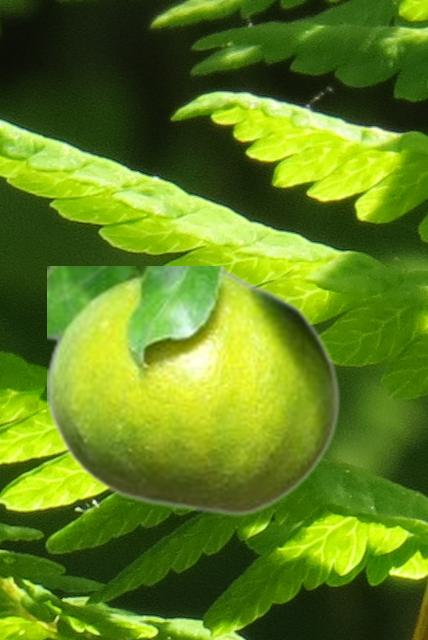dalandan: (47, 266, 340, 516)
